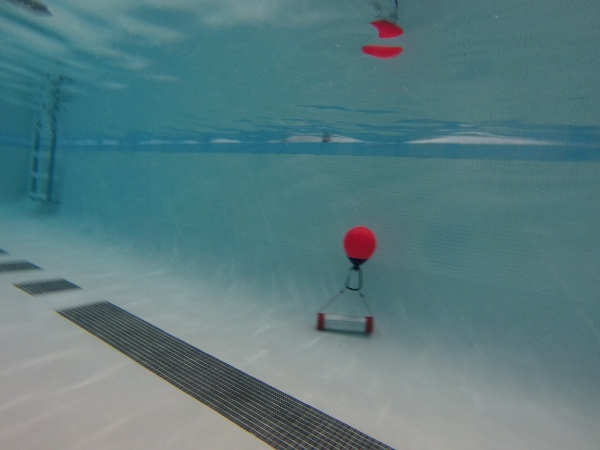buoy_red: (340, 226, 379, 271)
